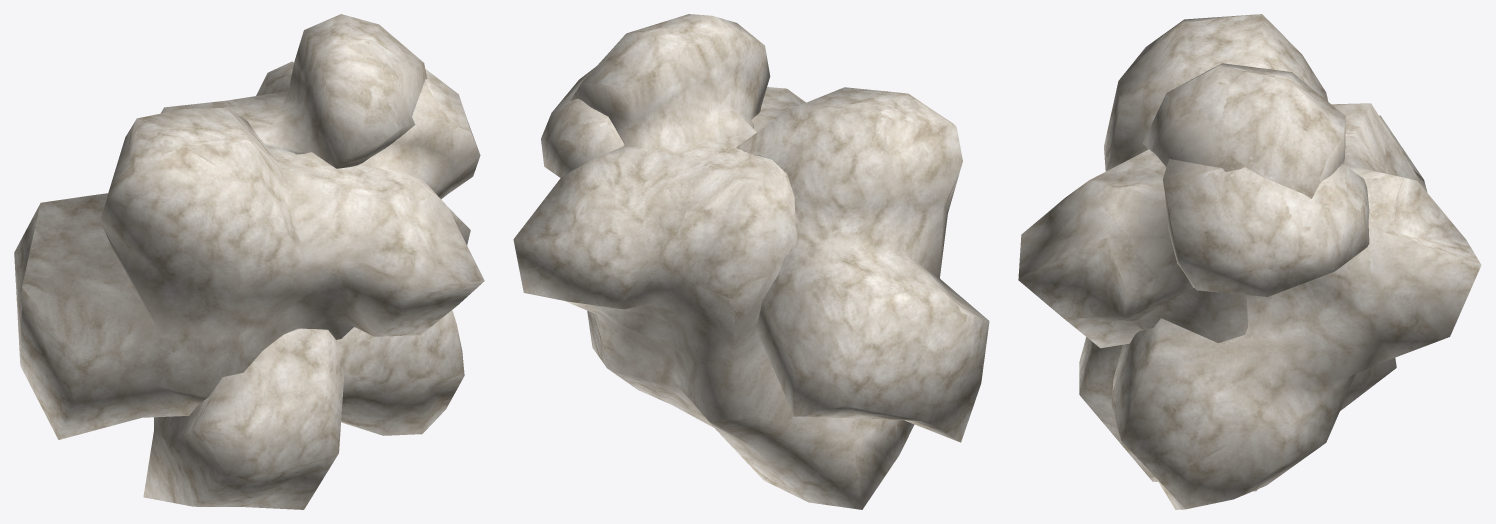
Rendered from HC_CottonBall_01.fbx.
The picture shows the model from 3 angles, left to right: view 1: azimuth 30°, elevation 25°; view 2: azimuth 150°, elevation 25°; view 3: azimuth 270°, elevation 25°; orthographic projection. The views are drawn at different scales.
Visible parts, largest first — view 1: HC_CottonBall_01; view 2: HC_CottonBall_01; view 3: HC_CottonBall_01.
Part boxes in pixels (x1,y1,x2,y2): HC_CottonBall_01: (14,14,484,509); HC_CottonBall_01: (513,14,989,509); HC_CottonBall_01: (1018,14,1481,509).
Bounding box in the file's own units: 0.2679 × 0.2376 × 0.2626.
